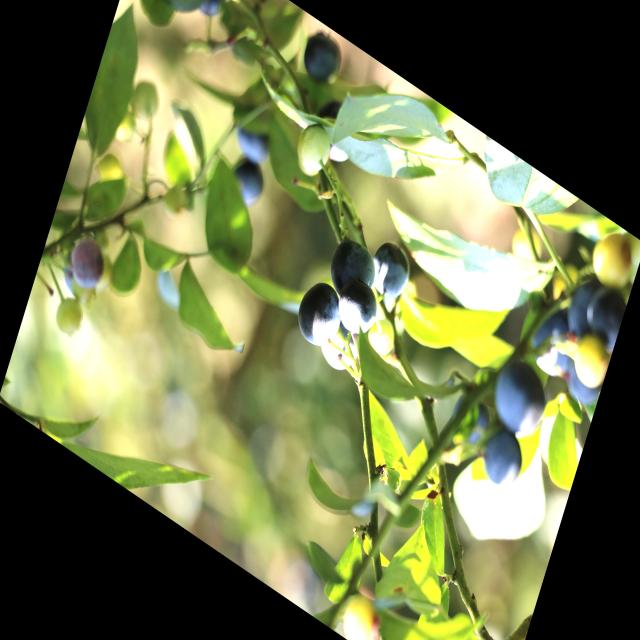blueberry: (482, 344, 556, 451), (320, 225, 386, 318), (288, 268, 350, 363), (521, 294, 583, 387), (306, 87, 364, 173), (476, 415, 533, 502), (552, 332, 610, 415), (576, 270, 630, 355), (364, 230, 418, 314), (329, 268, 385, 348), (313, 311, 370, 389), (296, 20, 350, 100), (560, 268, 610, 350), (444, 380, 495, 457), (222, 144, 274, 219), (226, 110, 278, 174), (187, 0, 230, 28)
blueberry-unripe: (294, 118, 336, 180), (338, 589, 387, 640), (364, 312, 401, 366), (52, 292, 88, 342), (92, 144, 124, 191)
